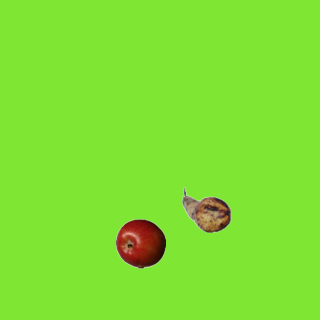Apple Braeburn: (115, 218, 165, 268)
Pear Abate: (181, 185, 231, 235)
